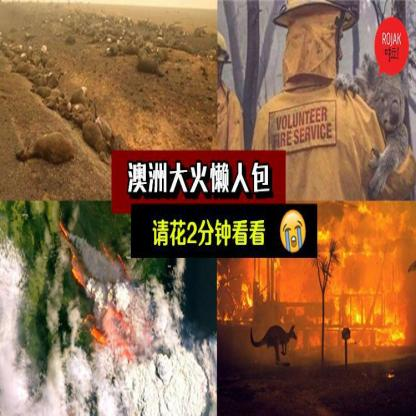fire: (220, 255, 403, 357), (58, 216, 148, 356), (314, 194, 406, 266)
